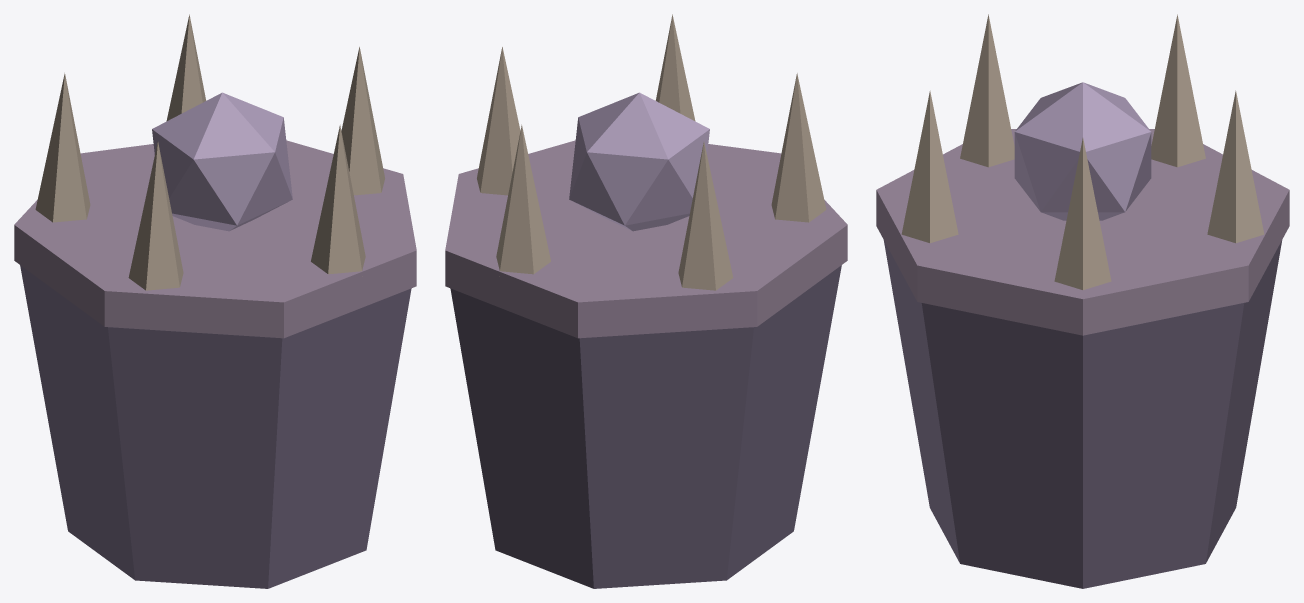
The model's file is map-exclusive-v3__dragon_12.glb.
3 renders of one model, left to right at view 1: azimuth 30°, elevation 25°; view 2: azimuth 150°, elevation 25°; view 3: azimuth 270°, elevation 25°, orthographic.
Visible parts, largest first — view 1: dragon_12; view 2: dragon_12; view 3: dragon_12.
Part boxes in pixels (bbox=[...]): dragon_12: bbox=[14, 14, 416, 588]; dragon_12: bbox=[445, 14, 847, 588]; dragon_12: bbox=[876, 14, 1289, 588].
Size of the model in its own units: 1.1 by 1.37 by 1.13.
